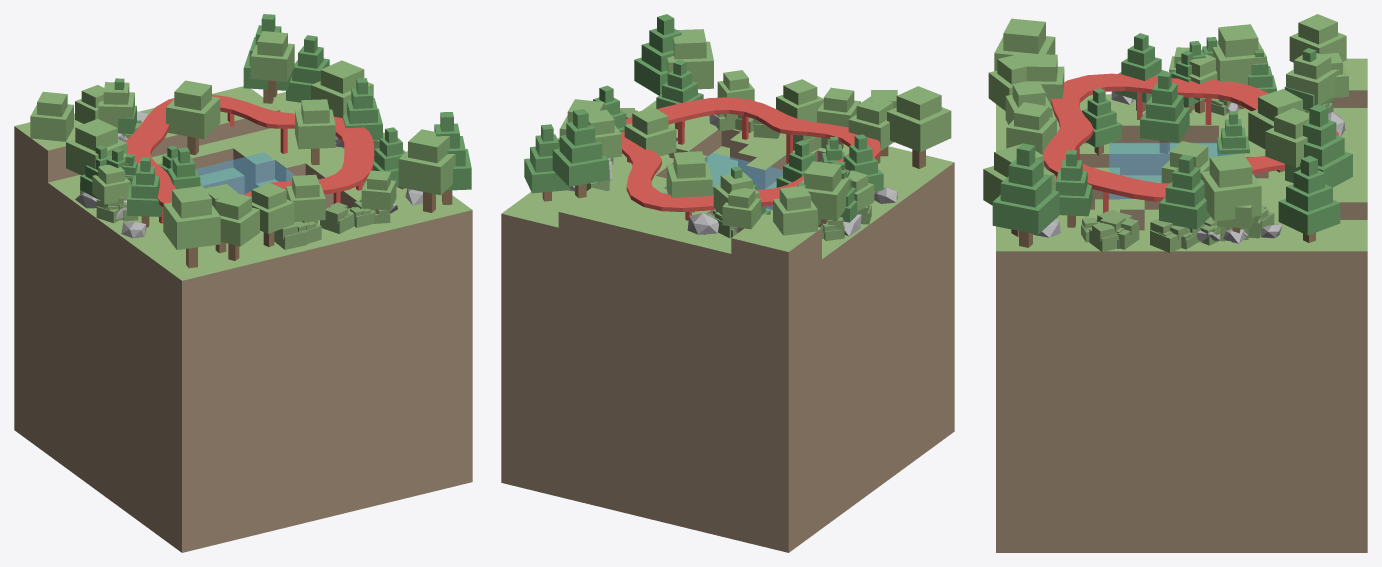
The model's file is block_9_wetlands_100.glb.
The picture shows the model from 3 angles, left to right: view 1: azimuth 30°, elevation 25°; view 2: azimuth 150°, elevation 25°; view 3: azimuth 270°, elevation 25°; orthographic projection. The views are drawn at different scales.
Visible parts, largest first — view 1: Patch_LowerLeft_b09_WL, WL_Walk_09, WL_Clu_09_029, WL_Clu_09_068, WL_Clu_09_035, WL_Water_09, WL_Clu_09_014, WL_Clu_09_072, WL_Clu_09_000, WL_Clu_09_063, WL_Clu_09_010, WL_Clu_09_021 (+16 smaller); view 2: Patch_LowerLeft_b09_WL, WL_Walk_09, WL_Clu_09_029, WL_Clu_09_045, WL_Clu_09_055, WL_Clu_09_000, WL_Clu_09_042, WL_Clu_09_035, WL_Clu_09_068, WL_Clu_09_010, WL_Clu_09_063, WL_Clu_09_067 (+13 smaller); view 3: Patch_LowerLeft_b09_WL, WL_Walk_09, WL_Clu_09_055, WL_Clu_09_042, WL_Clu_09_021, WL_Clu_09_045, WL_Clu_09_044, WL_Clu_09_065, WL_Water_09, WL_Clu_09_000, WL_Clu_09_079, WL_Clu_09_014 (+22 smaller).
Boxes of the visible parts, left/top/right/bottom form: Patch_LowerLeft_b09_WL: left=14, top=86, right=472, bottom=552; WL_Walk_09: left=125, top=94, right=374, bottom=223; WL_Clu_09_029: left=163, top=186, right=220, bottom=268; WL_Clu_09_068: left=398, top=129, right=455, bottom=212; WL_Clu_09_035: left=166, top=80, right=220, bottom=155; WL_Water_09: left=196, top=152, right=295, bottom=194; WL_Clu_09_014: left=250, top=31, right=294, bottom=97; WL_Clu_09_072: left=215, top=191, right=259, bottom=260; WL_Clu_09_000: left=66, top=119, right=127, bottom=175; WL_Clu_09_063: left=295, top=99, right=335, bottom=164; WL_Clu_09_010: left=30, top=91, right=73, bottom=141; WL_Clu_09_021: left=311, top=60, right=373, bottom=118; Patch_LowerLeft_b09_WL: left=501, top=100, right=954, bottom=552; WL_Walk_09: left=620, top=97, right=880, bottom=220; WL_Clu_09_029: left=887, top=86, right=951, bottom=168; WL_Clu_09_045: left=552, top=109, right=608, bottom=198; WL_Clu_09_055: left=634, top=14, right=681, bottom=95; WL_Clu_09_000: left=801, top=161, right=849, bottom=227; WL_Clu_09_042: left=524, top=124, right=570, bottom=201; WL_Clu_09_035: left=666, top=151, right=712, bottom=212; WL_Clu_09_068: left=667, top=29, right=713, bottom=89; WL_Clu_09_010: left=773, top=185, right=817, bottom=235; WL_Clu_09_063: left=624, top=107, right=676, bottom=156; WL_Clu_09_067: left=848, top=96, right=893, bottom=163; Patch_LowerLeft_b09_WL: left=996, top=58, right=1367, bottom=552; WL_Walk_09: left=1043, top=73, right=1338, bottom=213; WL_Clu_09_055: left=992, top=143, right=1059, bottom=247; WL_Clu_09_042: left=1278, top=155, right=1340, bottom=242; WL_Clu_09_021: left=1200, top=153, right=1261, bottom=240; WL_Clu_09_045: left=1285, top=104, right=1352, bottom=187; WL_Clu_09_044: left=1140, top=71, right=1189, bottom=153; WL_Clu_09_065: left=1159, top=154, right=1210, bottom=229; WL_Water_09: left=1109, top=142, right=1240, bottom=198; WL_Clu_09_000: left=1212, top=24, right=1266, bottom=109; WL_Clu_09_079: left=1055, top=149, right=1092, bottom=227; WL_Clu_09_014: left=1265, top=108, right=1309, bottom=167.
Bounding box in the file's own units: 10.18 × 11.65 × 9.82.
